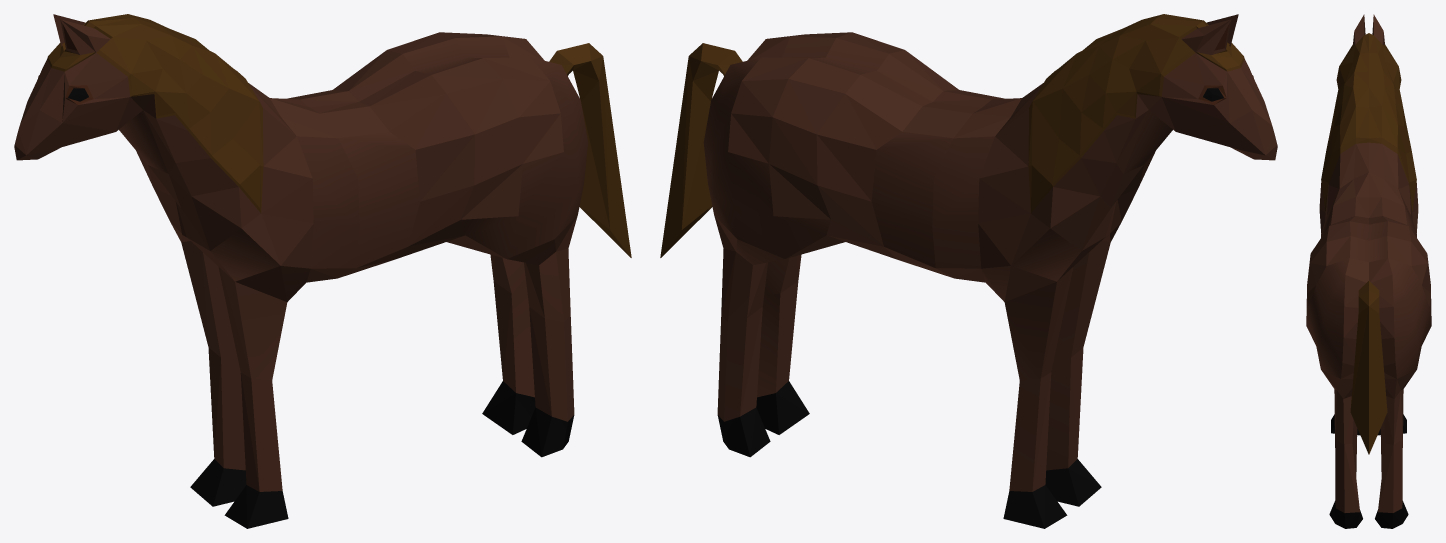
Rendered from Pferd_Kleeblatt.FBX.
3 views of the same model, side by side, from view 1: azimuth 30°, elevation 25°; view 2: azimuth 150°, elevation 25°; view 3: azimuth 270°, elevation 25° (orthographic). The views are drawn at different scales.
Parts seen in each view (by area): view 1: Kleeblatt; view 2: Kleeblatt; view 3: Kleeblatt.
Boxes of the visible parts, bbox=[...] form: Kleeblatt: bbox=[14, 14, 631, 528]; Kleeblatt: bbox=[660, 14, 1277, 528]; Kleeblatt: bbox=[1306, 14, 1431, 528].
Bounding box in the file's own units: 75.53 × 62.48 × 19.97.
